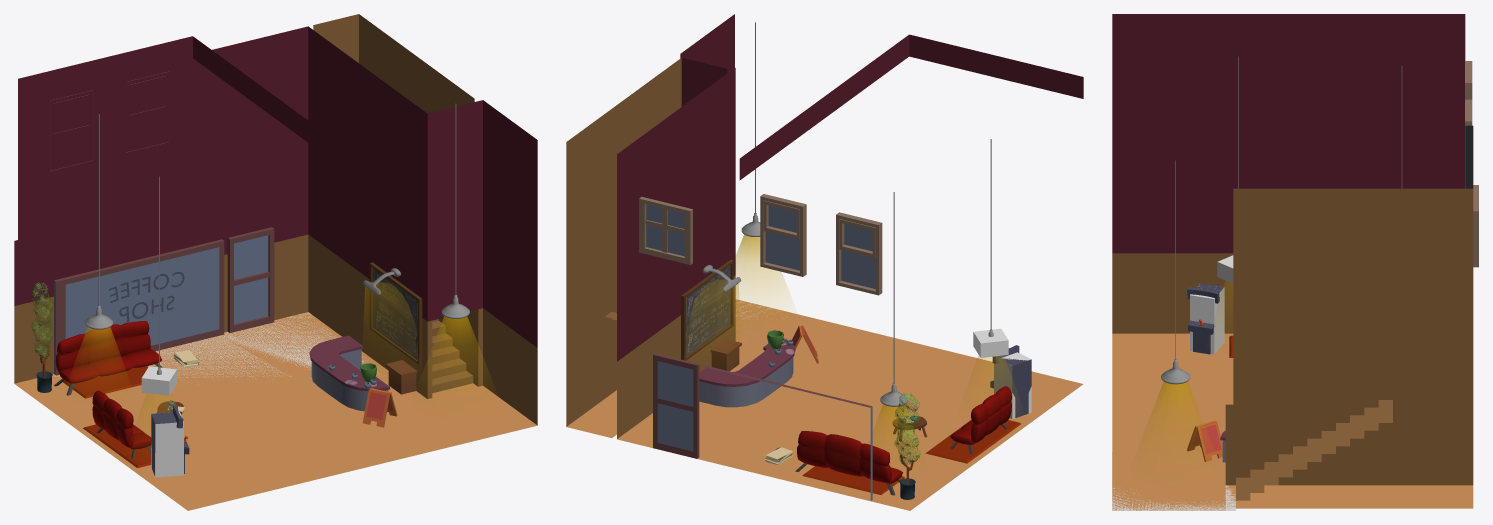
The model's file is coffee-shop.glb.
The picture shows the model from 3 angles, left to right: view 1: azimuth 30°, elevation 25°; view 2: azimuth 150°, elevation 25°; view 3: azimuth 270°, elevation 25°; orthographic projection. The views are drawn at different scales.
Parts seen in each view (by area): view 1: coffee-shop, coffee-shop-windows, coffee-shop-door, sofa2, ground-clickable, coffee-board, bar, light-cone.002, light-cone.003, light-cone.001, stairs, sofa (+12 smaller); view 2: coffee-shop, coffee-shop-door, bar, coffee-board, coffee-shop-window-1, coffee-shop-window-2, sofa2, coffee-shop-window-3, light-cone.003, light-cone.002, sofa, tree (+10 smaller); view 3: coffee-shop, stairs, light-cone.002, clickable, ground-clickable, astro-box, sign, hang-light.002, coffee-shop-window-3, light-cone.
Part boxes in pixels (x1,y1,x2,y2): coffee-shop: (14, 14, 537, 510); coffee-shop-windows: (54, 239, 224, 375); coffee-shop-door: (227, 227, 274, 332); sofa2: (54, 321, 162, 395); ground-clickable: (52, 312, 378, 382); coffee-board: (369, 262, 422, 364); bar: (309, 335, 389, 411); light-cone.002: (423, 316, 488, 385); light-cone.003: (364, 282, 415, 342); light-cone.001: (73, 327, 124, 380); stairs: (432, 319, 473, 393); sofa: (92, 390, 151, 458); coffee-shop: (566, 14, 1083, 510); coffee-shop-door: (653, 353, 699, 458); bar: (699, 338, 795, 407); coffee-board: (681, 259, 733, 360); coffee-shop-window-1: (760, 194, 806, 276); coffee-shop-window-2: (836, 212, 882, 295); sofa2: (795, 431, 902, 495); coffee-shop-window-3: (639, 196, 692, 264); light-cone.003: (689, 279, 739, 338); light-cone.002: (736, 234, 787, 303); sofa: (950, 386, 1011, 454); tree: (894, 393, 920, 499); coffee-shop: (1112, 14, 1473, 510); stairs: (1236, 400, 1392, 500); light-cone.002: (1142, 382, 1209, 453); clickable: (1190, 284, 1224, 354); ground-clickable: (1112, 452, 1235, 510); astro-box: (1187, 283, 1224, 354); sign: (1187, 420, 1222, 461); hang-light.002: (1161, 160, 1190, 384); coffee-shop-window-3: (1473, 185, 1478, 267); light-cone: (1217, 281, 1232, 318).
Size of the model in its own units: 23.56 by 20.47 by 20.5.
Materials: 33 (3 with a texture image).
